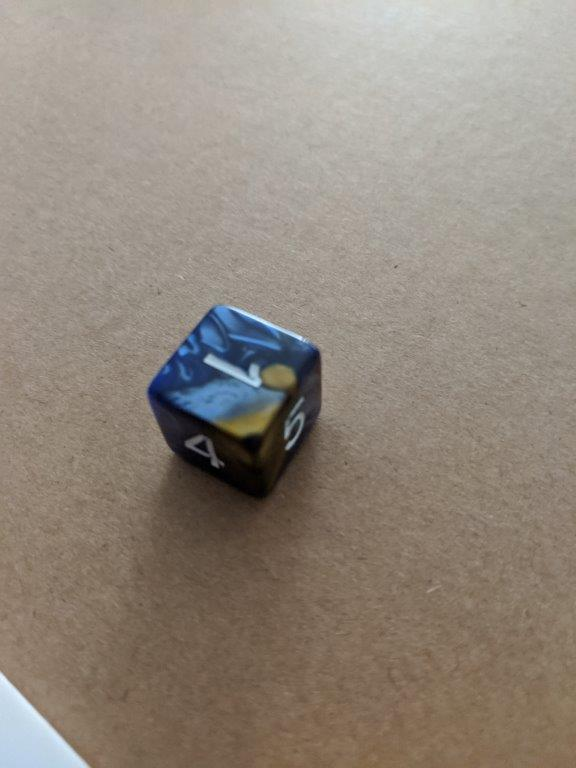d6-1: (144, 305, 323, 495)
